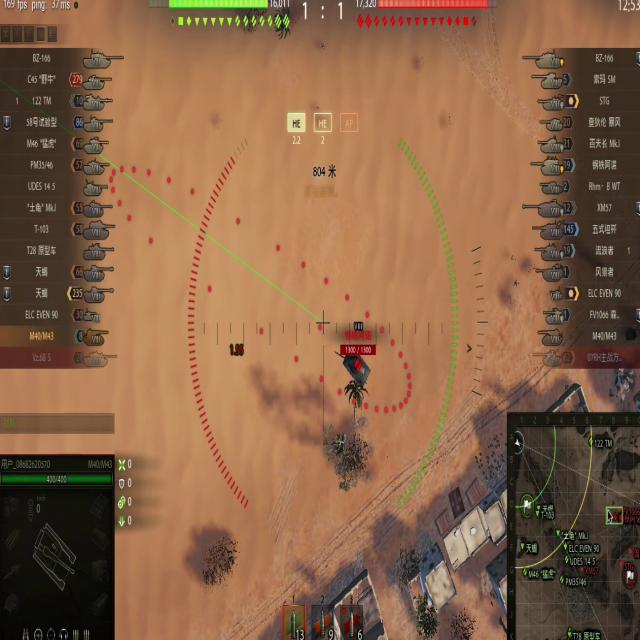tank: (338, 346, 380, 386)
